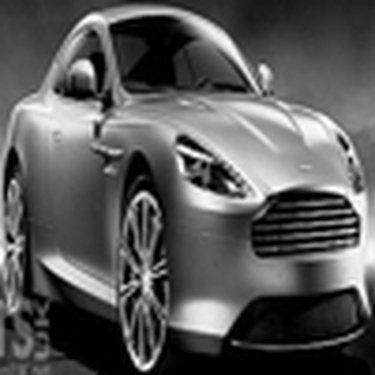car: (7, 6, 360, 354)
